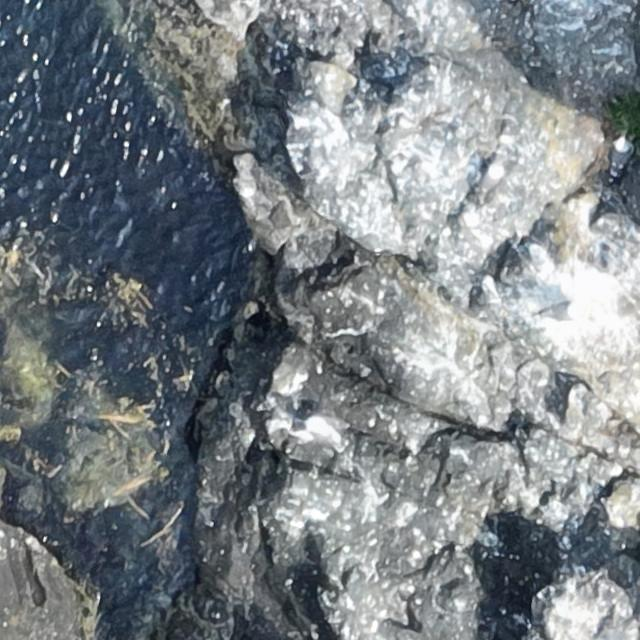umineko: (536, 296, 586, 329), (468, 158, 504, 202), (611, 139, 629, 169)
